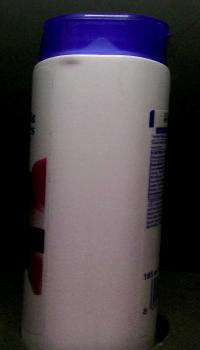dent_marginal: (49, 52, 88, 72)
